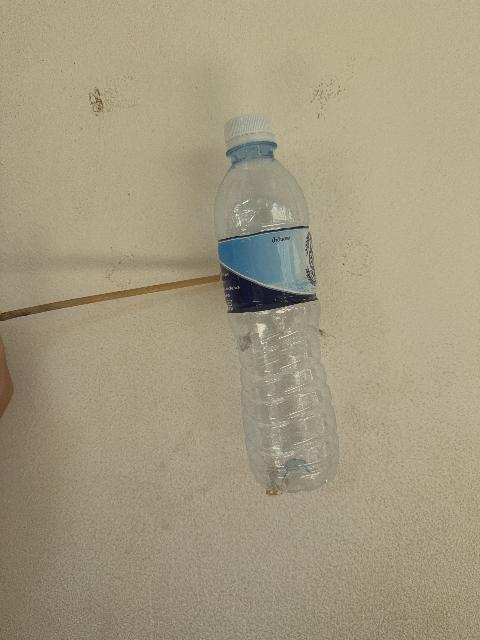bottle: (215, 114, 338, 492)
